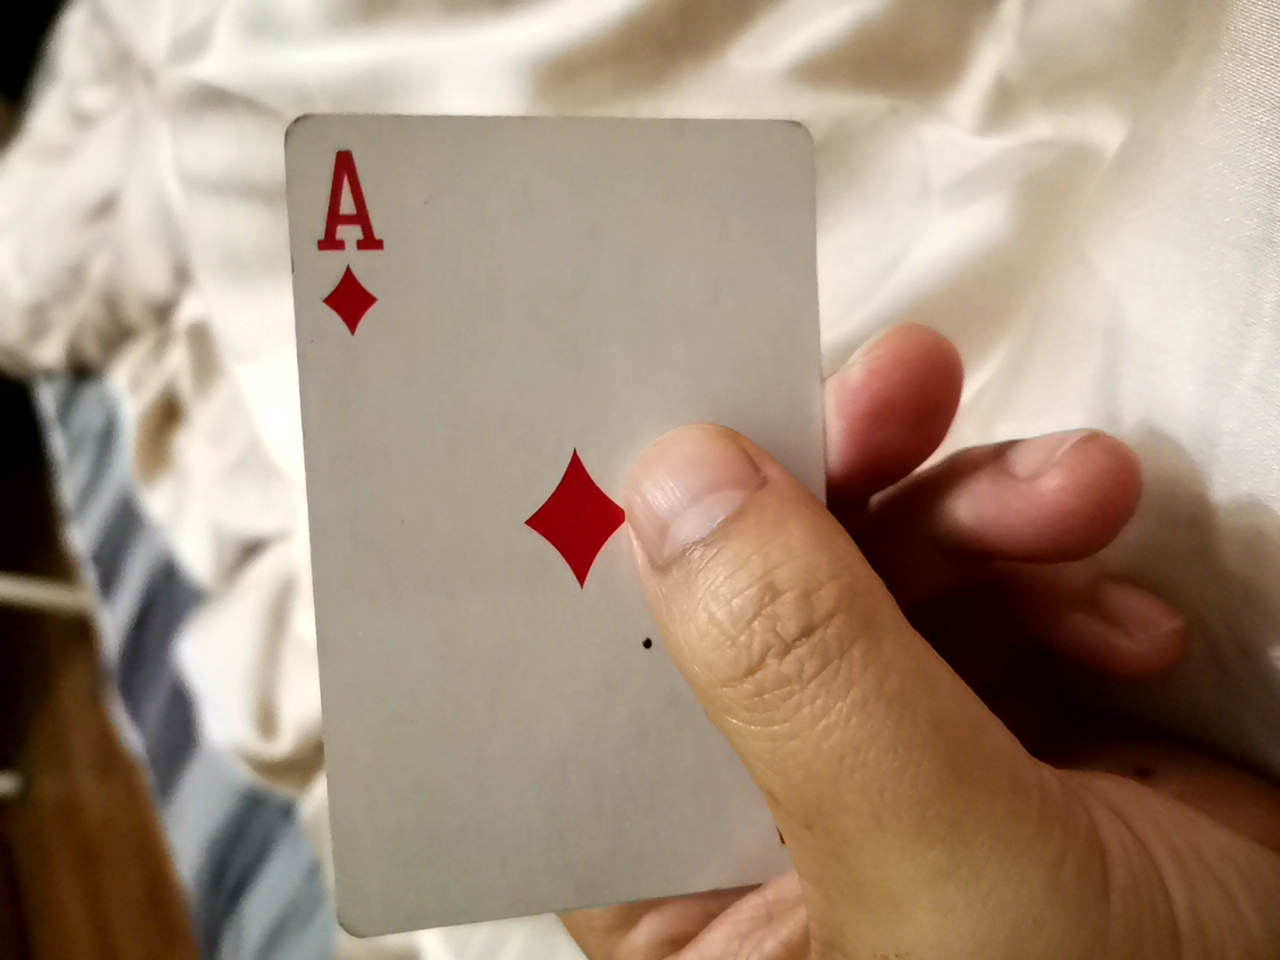fk a: (237, 42, 983, 894)
